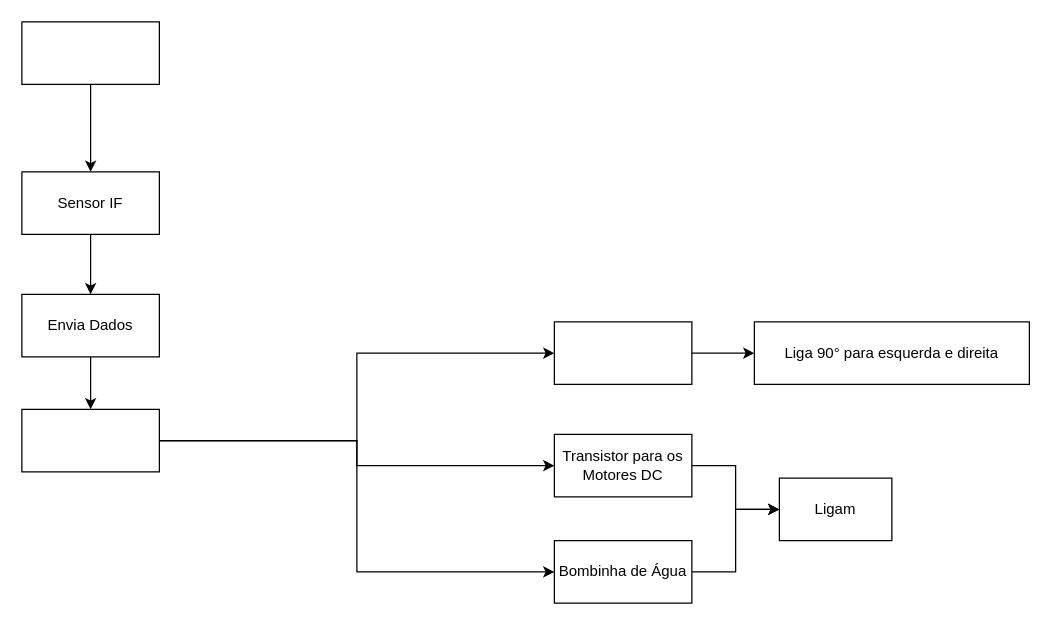
This 1051x625 diagram has some shape labels left out. Each missing label, with the centre of its shape:
"Arduino" belongs at (90,440).
"Ondas Infravermelho" belongs at (90,52).
"Servo Motor" belongs at (622,352).
